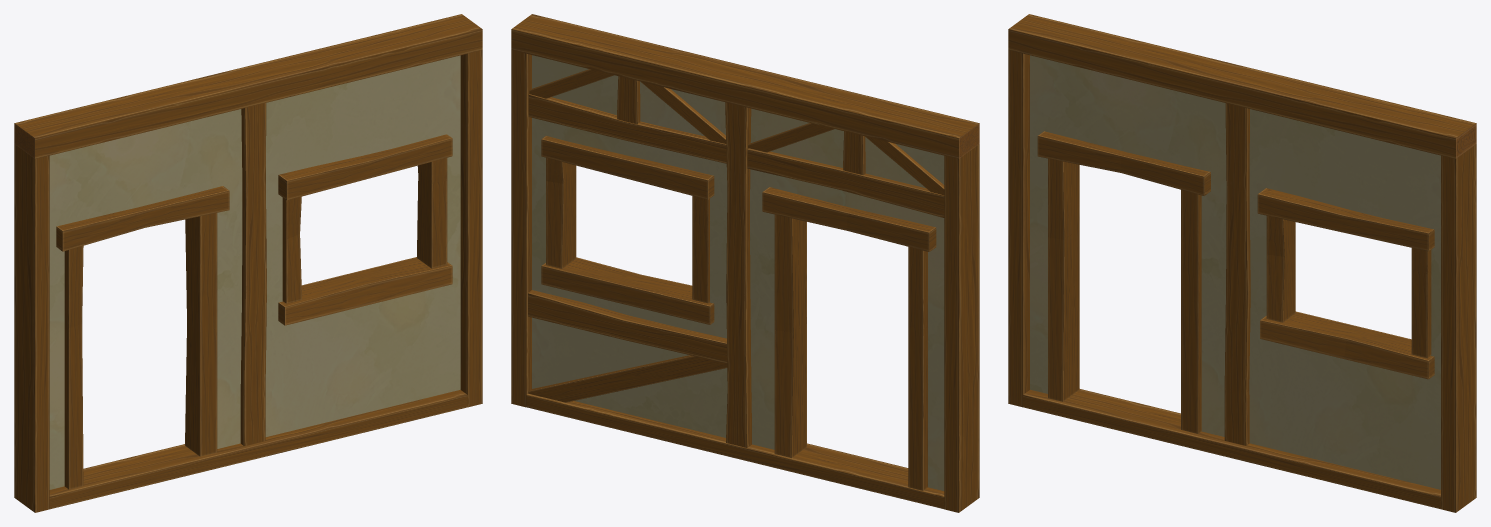
The model's file is SM_House_Wall_5x4_Door_A_03.fbx.
3 renders of one model, left to right at view 1: azimuth 30°, elevation 25°; view 2: azimuth 150°, elevation 25°; view 3: azimuth 330°, elevation 25°, orthographic.
Visible parts, largest first — view 1: SM_House_Wall_5x4_Door_A_03; view 2: SM_House_Wall_5x4_Door_A_03; view 3: SM_House_Wall_5x4_Door_A_03.
Boxes of the visible parts, <box> form: SM_House_Wall_5x4_Door_A_03: <box>14,14,482,512</box>; SM_House_Wall_5x4_Door_A_03: <box>511,14,979,512</box>; SM_House_Wall_5x4_Door_A_03: <box>1008,14,1476,512</box>.
Size of the model in its own units: 5 by 4 by 0.4539.
